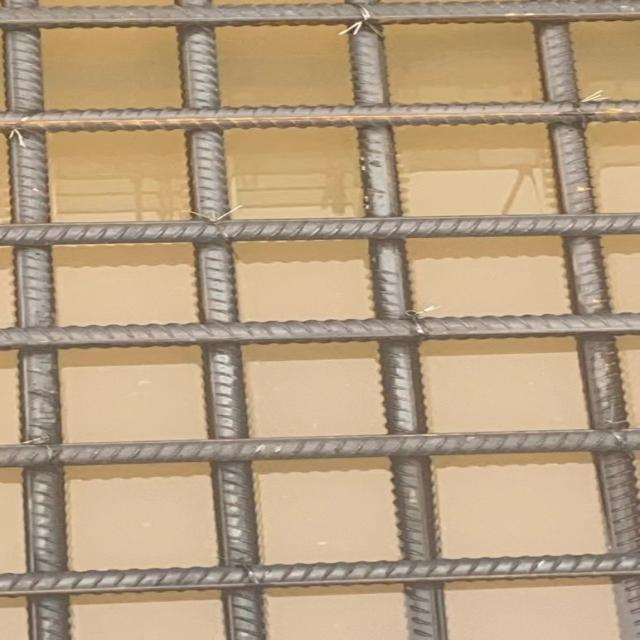ribbed bar: (344, 0, 451, 639), (530, 21, 638, 639), (174, 0, 268, 639), (1, 0, 72, 639), (0, 552, 638, 598), (0, 310, 638, 350), (0, 428, 638, 466), (0, 211, 638, 245), (0, 99, 638, 132), (0, 0, 638, 28)
